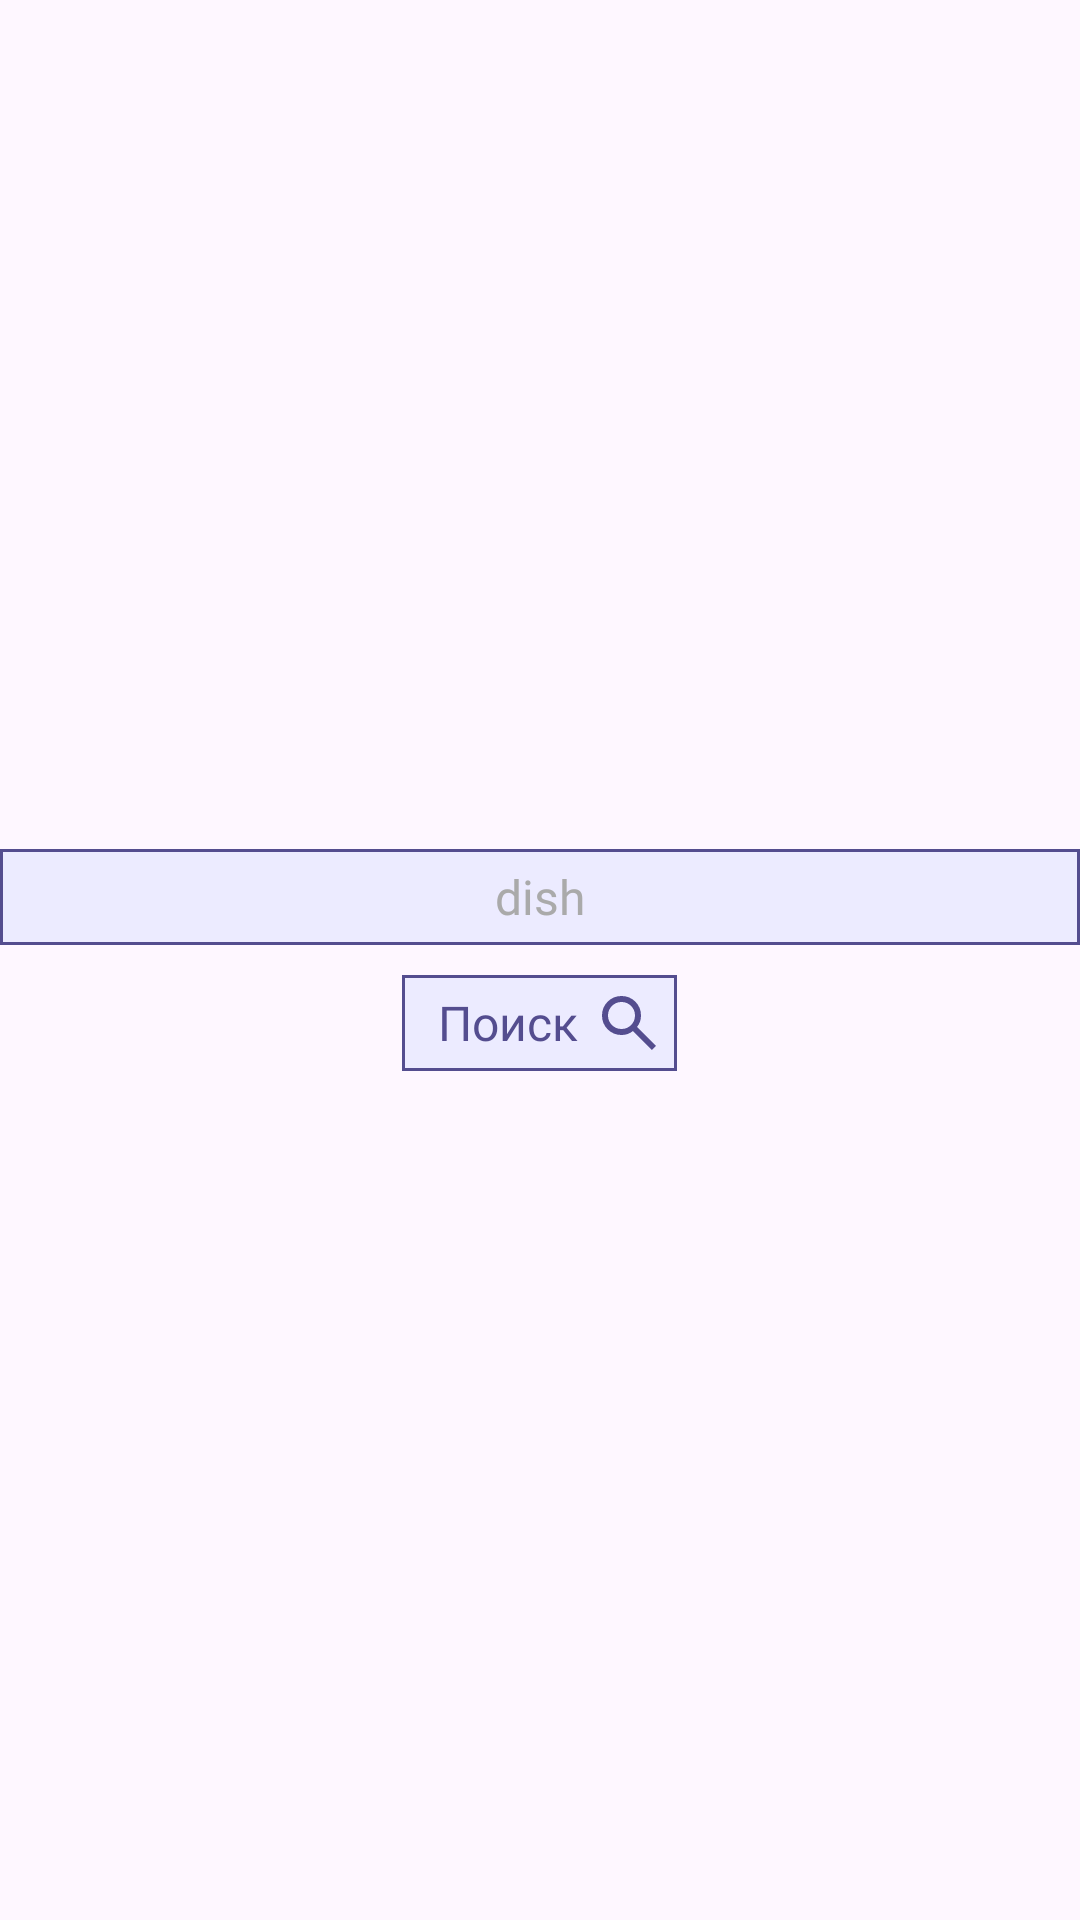

Locate icon controls on the screen. Image size 1080 x 1920, boxes as box(x1, y1, x2, y2).
Search Icon: box(602, 996, 656, 1050)
